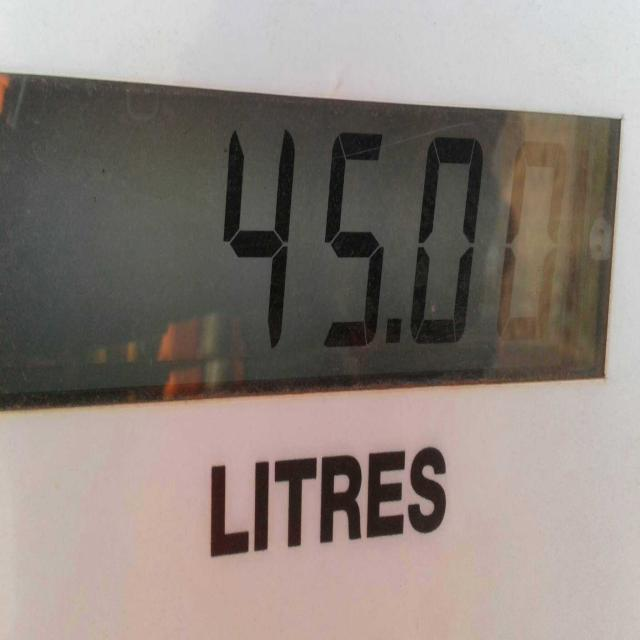.: (382, 297, 408, 371)
0: (408, 138, 479, 344), (497, 143, 568, 342)
4: (224, 137, 289, 356)
5: (328, 128, 388, 345)
